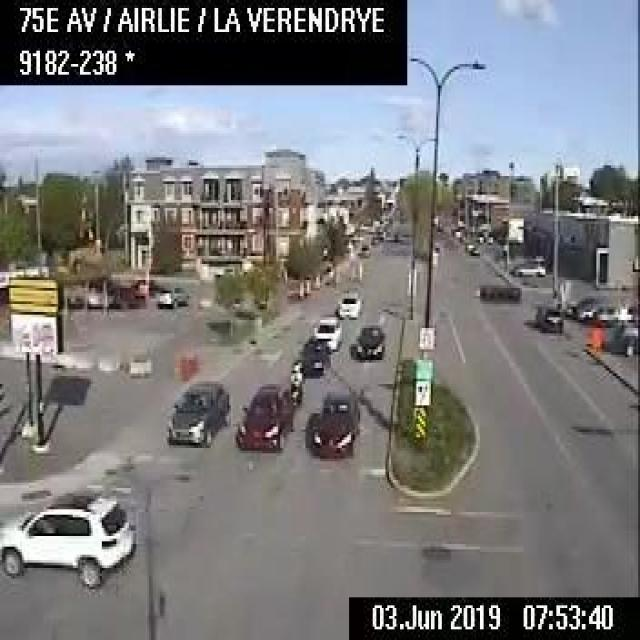construction: (589, 324, 602, 354)
vehicle: (0, 487, 136, 589), (164, 378, 230, 449), (234, 381, 292, 456), (303, 384, 360, 459), (300, 334, 331, 376), (602, 323, 637, 355), (353, 323, 382, 360), (312, 314, 340, 350), (531, 302, 562, 334), (286, 358, 305, 404), (156, 283, 190, 307), (334, 290, 361, 316), (512, 256, 544, 276), (359, 241, 369, 257), (468, 242, 480, 255)
